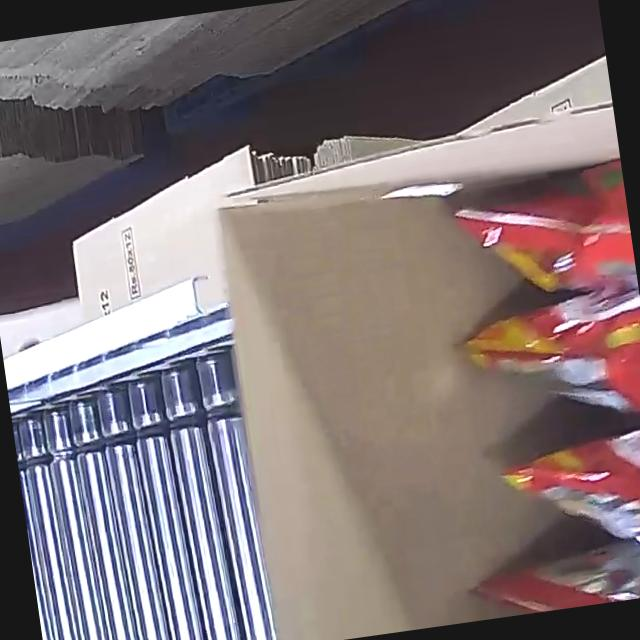masala: (414, 153, 640, 621)
